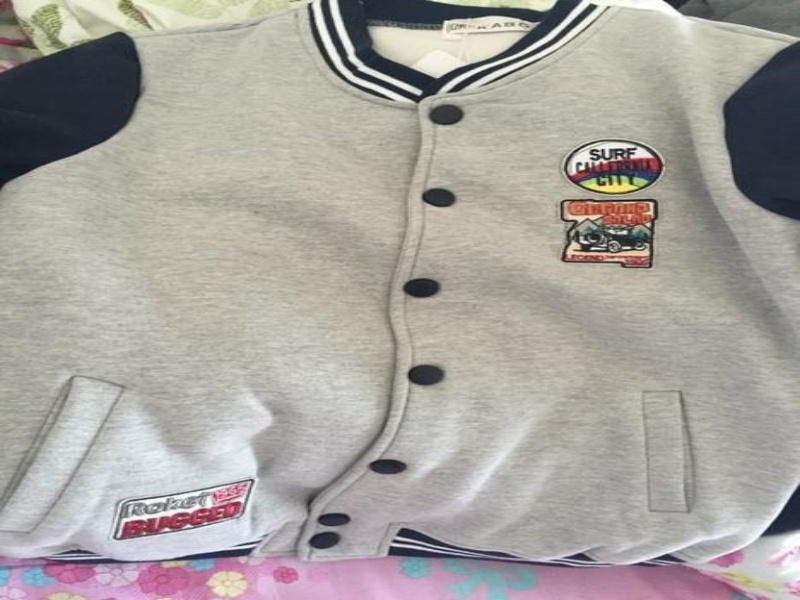long_sleeved_shirt: (0, 0, 797, 588)
